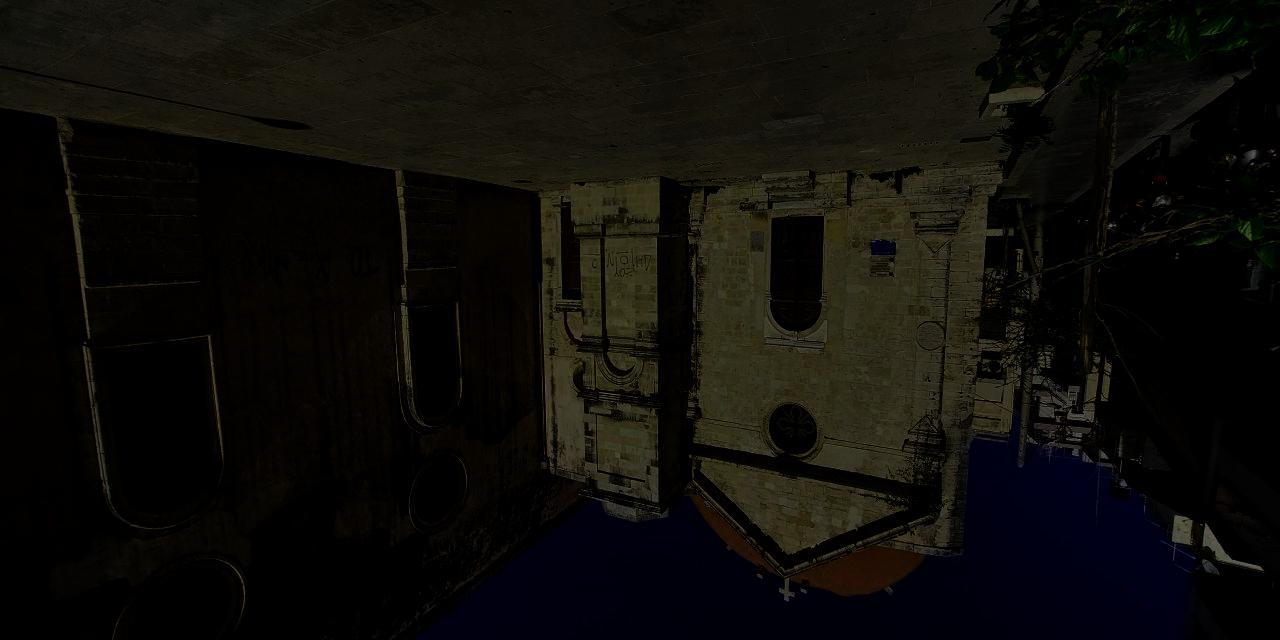Agia Aikaterini: (2, 101, 986, 638)
